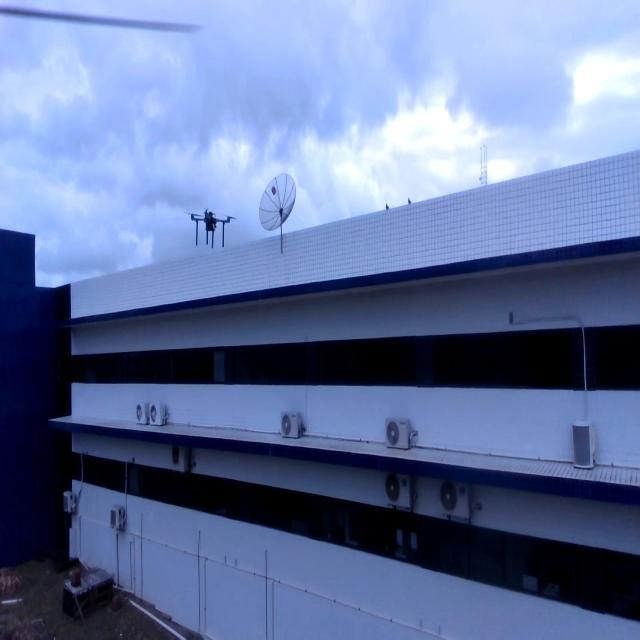-uav-: (181, 197, 239, 256)
